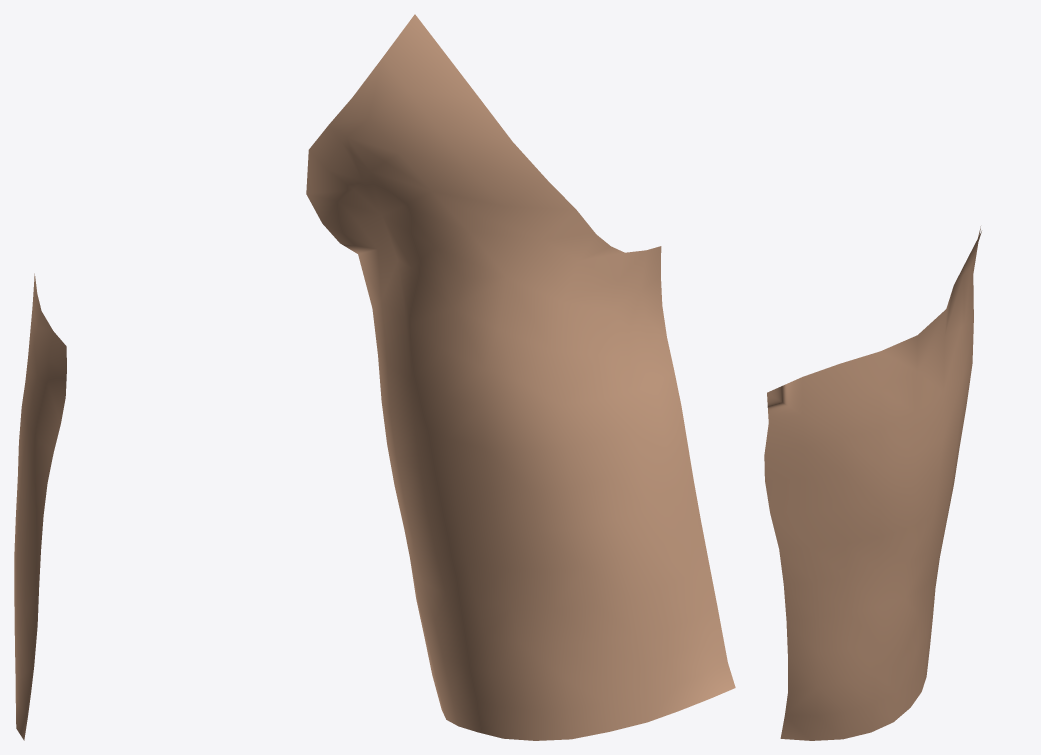
The model's file is posterior-region-of-arm-r.glb.
3 views of the same model, side by side, from view 1: azimuth 30°, elevation 25°; view 2: azimuth 150°, elevation 25°; view 3: azimuth 270°, elevation 25° (orthographic). The views are drawn at different scales.
Visible parts, largest first — view 1: Posterior region of arm.r; view 2: Posterior region of arm.r; view 3: Posterior region of arm.r.
Part boxes in pixels (<box>): Posterior region of arm.r: <box>14,273,66,740</box>; Posterior region of arm.r: <box>306,14,735,740</box>; Posterior region of arm.r: <box>764,226,981,740</box>.
Size of the model in its own units: 0.0936 by 0.227 by 0.0766.
